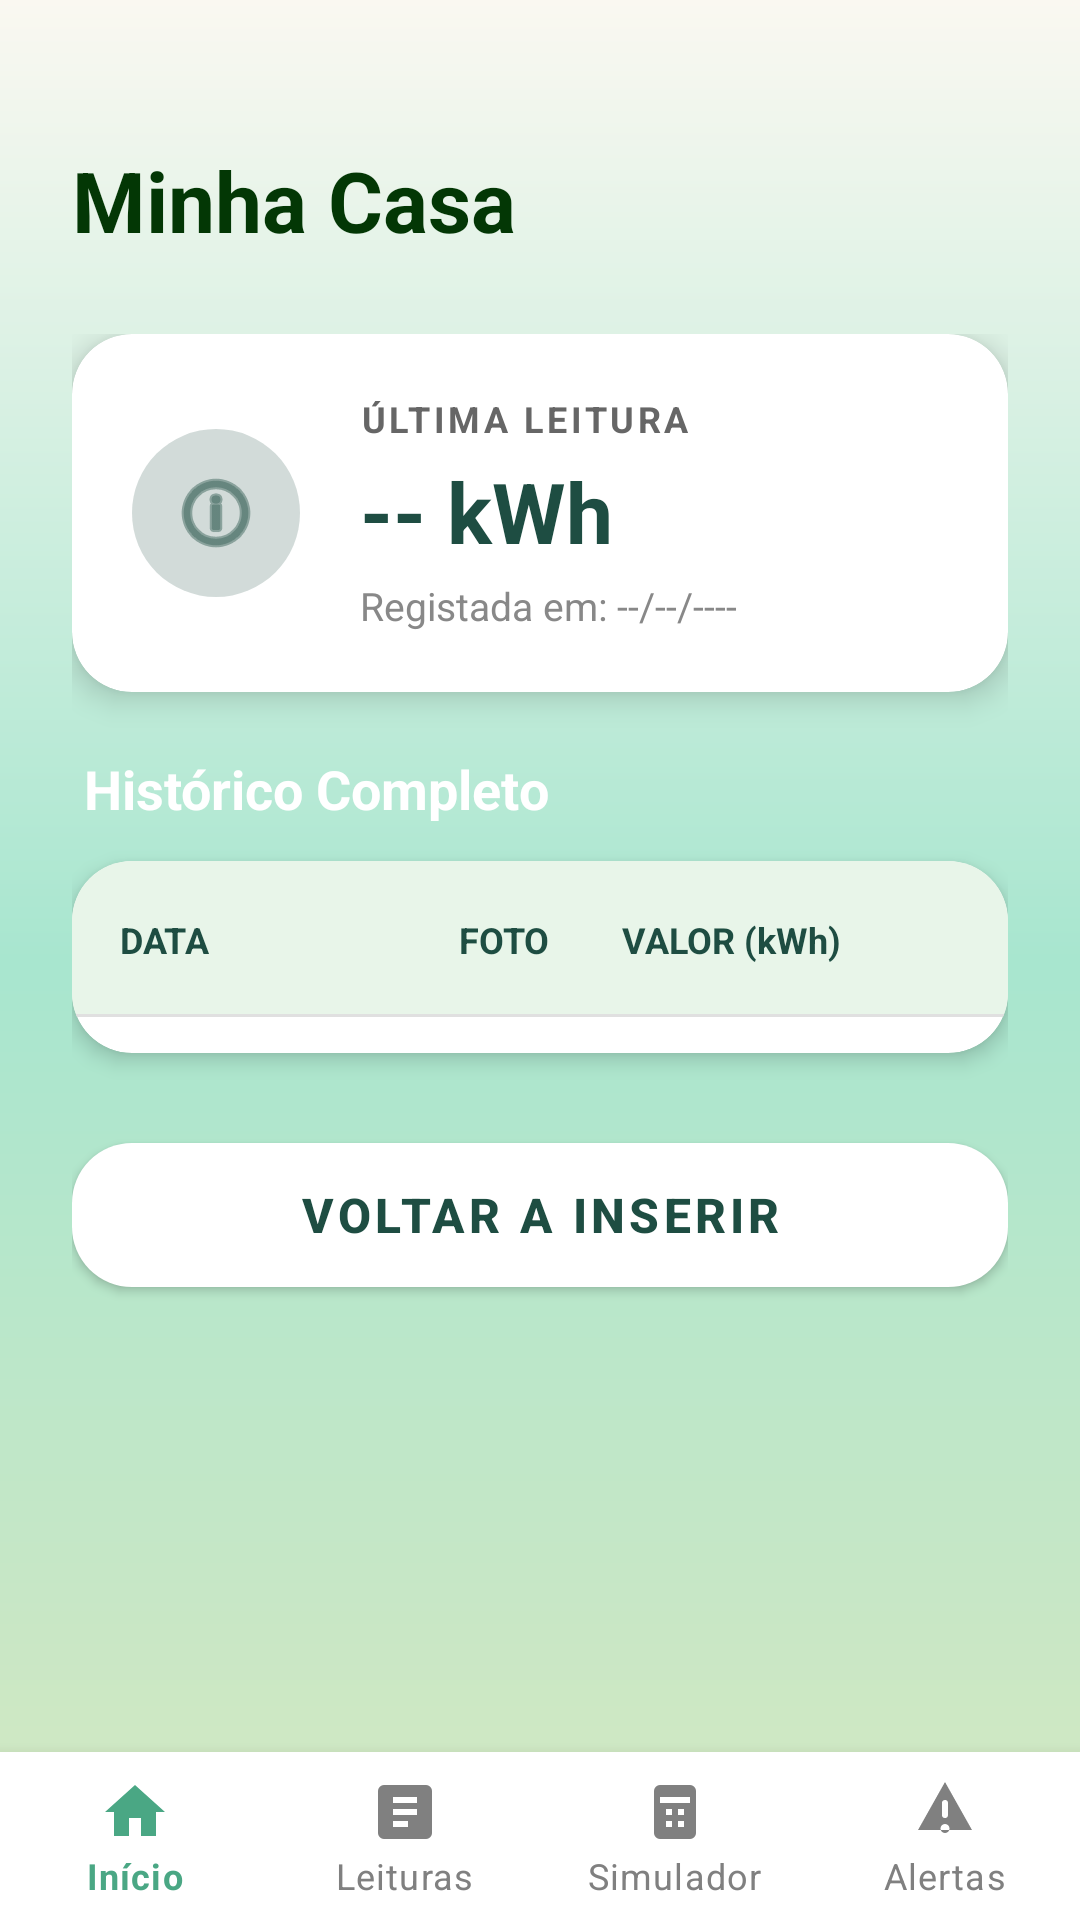

Screen size 1080w x 1920h. Icon name, then its box in pixels as (x1, y1, x2, y2):
info details: (132, 429, 300, 597)
